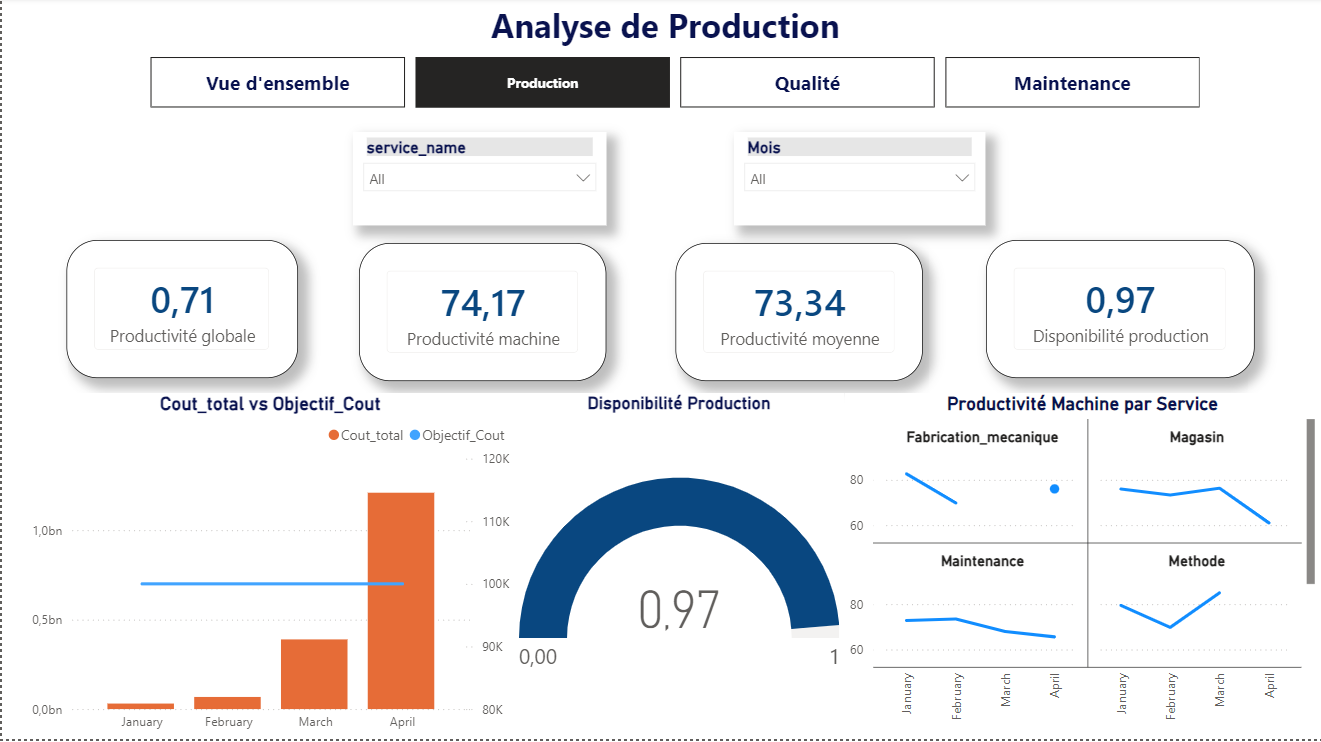

Layout of this report page (visuals, bound fields, positions):
{"tool":"powerbi","page":{"name":"Production","canvas":[1280,720],"ordinal":1},"visuals":[{"type":"textbox","box":[9.4,0,1269.9,69.9],"z":0},{"type":"slicer","fields":{"Values":["dim_service.service_name"]},"box":[340.2,130.4,245.7,90.7],"z":1000},{"type":"slicer","fields":{"Values":["Dim_date.Mois"]},"box":[710.6,130.4,243.8,90.7],"z":2000},{"type":"cardVisual","fields":{"Data":["INDICATEURS PRODUCTION.Productivité globale"]},"box":[62.4,236.2,224.9,134.2],"z":3000},{"type":"cardVisual","fields":{"Data":["INDICATEURS PRODUCTION.Productivité machine"]},"box":[345.8,238.1,240,134.2],"z":4000},{"type":"cardVisual","fields":{"Data":["INDICATEURS PRODUCTION.Productivité moyenne"]},"box":[653.9,238.1,240,134.2],"z":5000},{"type":"cardVisual","fields":{"Data":["INDICATEURS PRODUCTION.Disponibilité production"]},"box":[954.3,236.2,260.8,134.2],"z":6000},{"type":"lineClusteredColumnComboChart","title":"Cout_total vs Objectif_Cout","fields":{"Category":["Dim_date.Mois"],"Y":["INDICATEURS PRODUCTION.Cout_total"],"Y2":["INDICATEURS PRODUCTION.Objectif_Cout"]},"box":[22.7,383.6,474.3,336.4],"z":7000},{"type":"lineChart","title":"Productivité Machine par Service","fields":{"Category":["Dim_date.Mois"],"Rows":["dim_service.service_name"],"Y":["INDICATEURS PRODUCTION.Productivité machine"]},"box":[818.3,383.6,461.1,336.4],"z":8000},{"type":"gauge","title":"Disponibilité Production","fields":{"MaxValue":["INDICATEURS PRODUCTION.MAXDIS"],"Y":["INDICATEURS PRODUCTION.Disponibilité production"]},"box":[497,383.6,321.3,336.4],"z":9000},{"type":"pageNavigator","box":[143.6,58.6,1020.5,49.1],"z":10000}]}

Visuals, with their boxes in screenshot pixels (x1, y1, x2, y2), scaled from the page's 1280x720 canvas onto the 1321x742 screenshot:
textbox: left=10, top=0, right=1320, bottom=72
slicer - dim_service.service_name: left=351, top=134, right=605, bottom=228
slicer - Dim_date.Mois: left=733, top=134, right=985, bottom=228
cardVisual - INDICATEURS PRODUCTION.Productivité globale: left=64, top=243, right=297, bottom=382
cardVisual - INDICATEURS PRODUCTION.Productivité machine: left=357, top=245, right=605, bottom=384
cardVisual - INDICATEURS PRODUCTION.Productivité moyenne: left=675, top=245, right=923, bottom=384
cardVisual - INDICATEURS PRODUCTION.Disponibilité production: left=985, top=243, right=1254, bottom=382
"Cout_total vs Objectif_Cout" lineClusteredColumnComboChart: left=23, top=395, right=513, bottom=741
"Productivité Machine par Service" lineChart: left=845, top=395, right=1320, bottom=741
"Disponibilité Production" gauge: left=513, top=395, right=845, bottom=741
pageNavigator: left=148, top=60, right=1201, bottom=111
